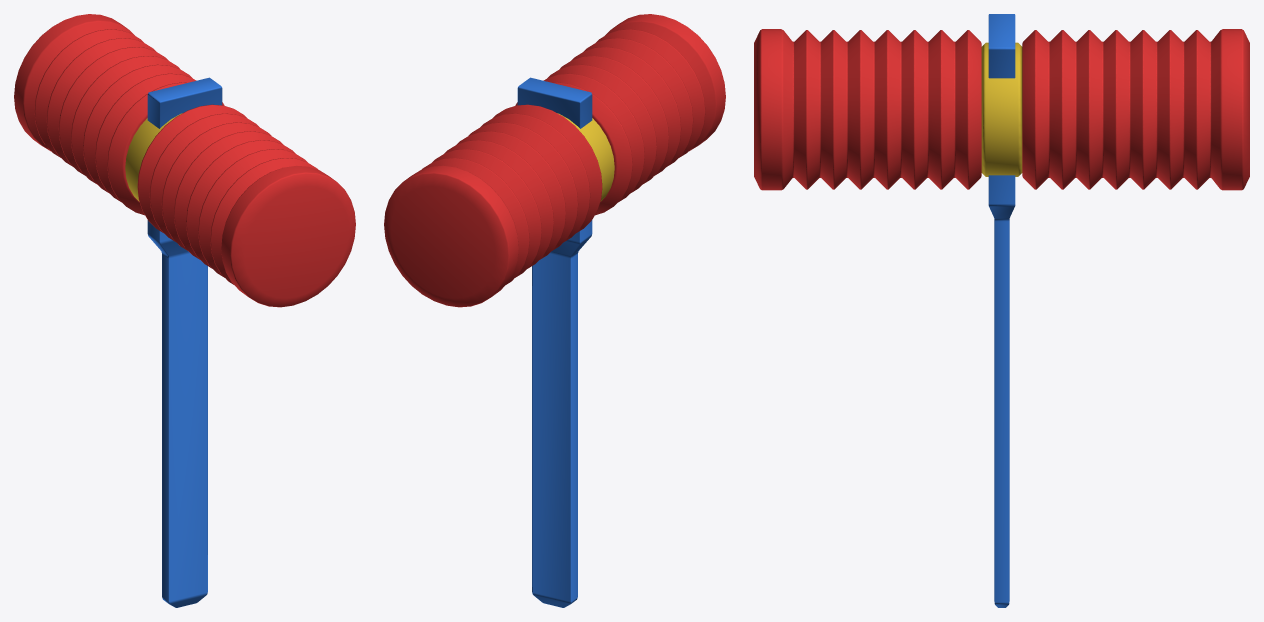
Rendered from Hammer.gltf.
The picture shows the model from 3 angles, left to right: view 1: azimuth 30°, elevation 25°; view 2: azimuth 150°, elevation 25°; view 3: azimuth 270°, elevation 25°; orthographic projection. The views are drawn at different scales.
Visible parts, largest first — view 1: 円柱; view 2: 円柱; view 3: 円柱.
Boxes of the visible parts, x1,y1,x2,y2 form: 円柱: (14, 14, 355, 607); 円柱: (384, 14, 725, 607); 円柱: (754, 14, 1249, 607).
Bounding box in the file's own units: 2.4 × 9.38 × 7.37.
Materials: 1 (1 with a texture image).
